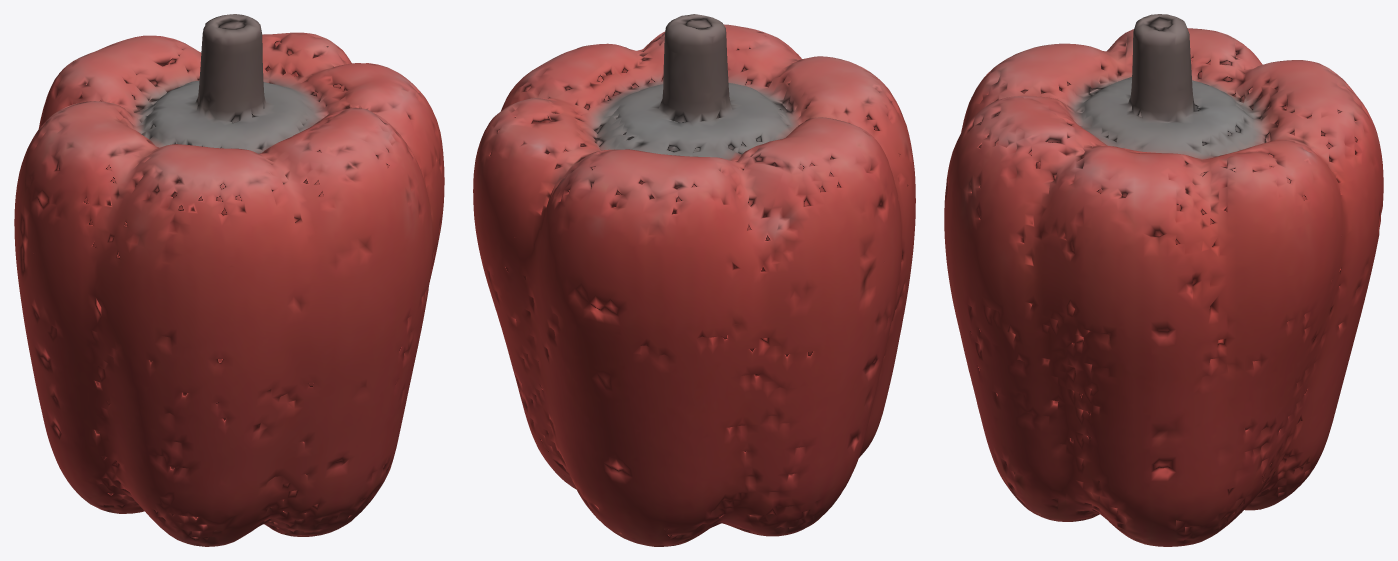
File: red-pepper-streaming3d.glb
3 renders of one model, left to right at view 1: azimuth 30°, elevation 25°; view 2: azimuth 150°, elevation 25°; view 3: azimuth 270°, elevation 25°, orthographic.
Size of the model in its own units: 0.8357 by 0.9966 by 0.8262.
